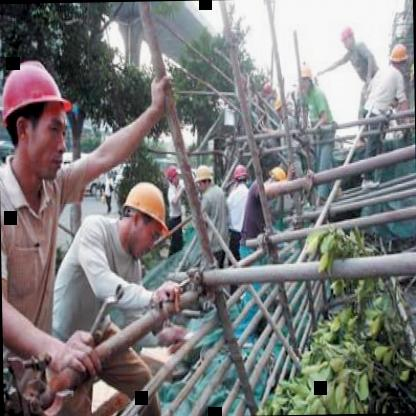helmet: (0, 51, 80, 189), (112, 175, 172, 257), (294, 56, 316, 92), (194, 158, 215, 194), (266, 162, 286, 197), (387, 40, 408, 73), (339, 24, 357, 54), (232, 158, 248, 190), (166, 159, 181, 189)
